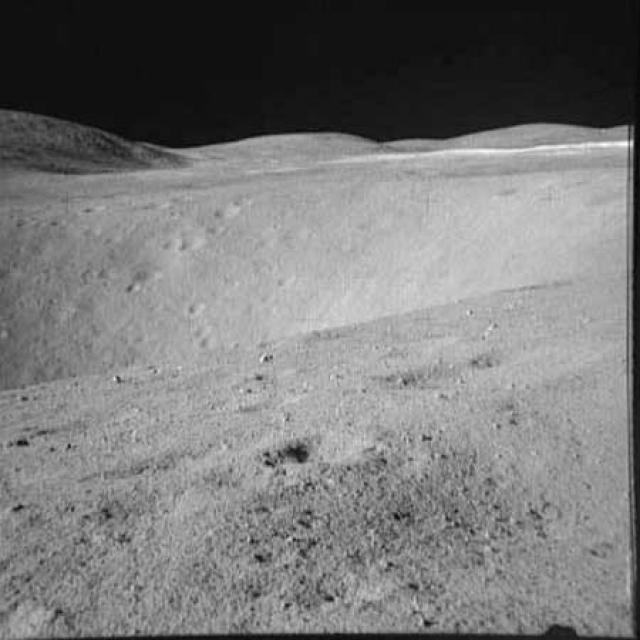crater: (262, 415, 374, 481), (469, 328, 578, 372), (226, 384, 313, 416), (276, 220, 320, 241), (125, 198, 172, 216), (204, 214, 229, 243), (130, 264, 164, 285), (207, 202, 244, 221), (184, 298, 212, 322), (76, 222, 104, 244), (176, 232, 203, 254), (270, 272, 298, 293), (193, 330, 218, 352), (76, 200, 105, 218), (156, 236, 177, 257), (46, 212, 68, 232)
rock: (2, 424, 38, 453), (0, 494, 31, 520), (248, 349, 291, 366), (390, 373, 428, 391), (109, 370, 137, 389)
